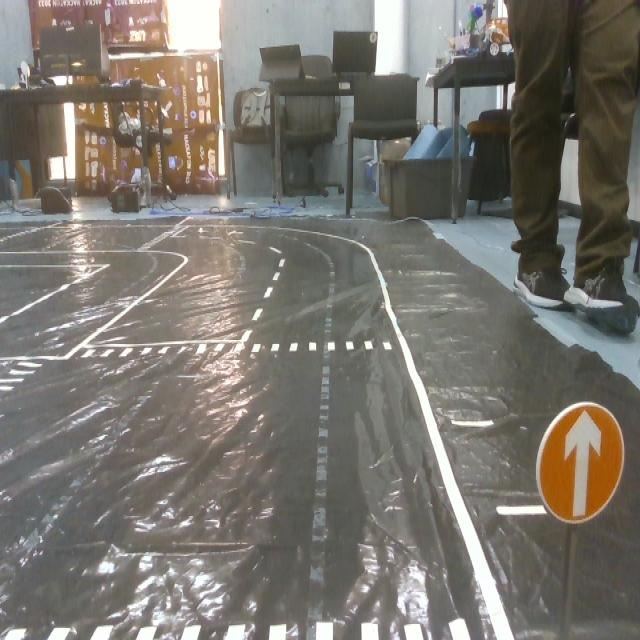right_turn: (532, 418, 640, 550)
